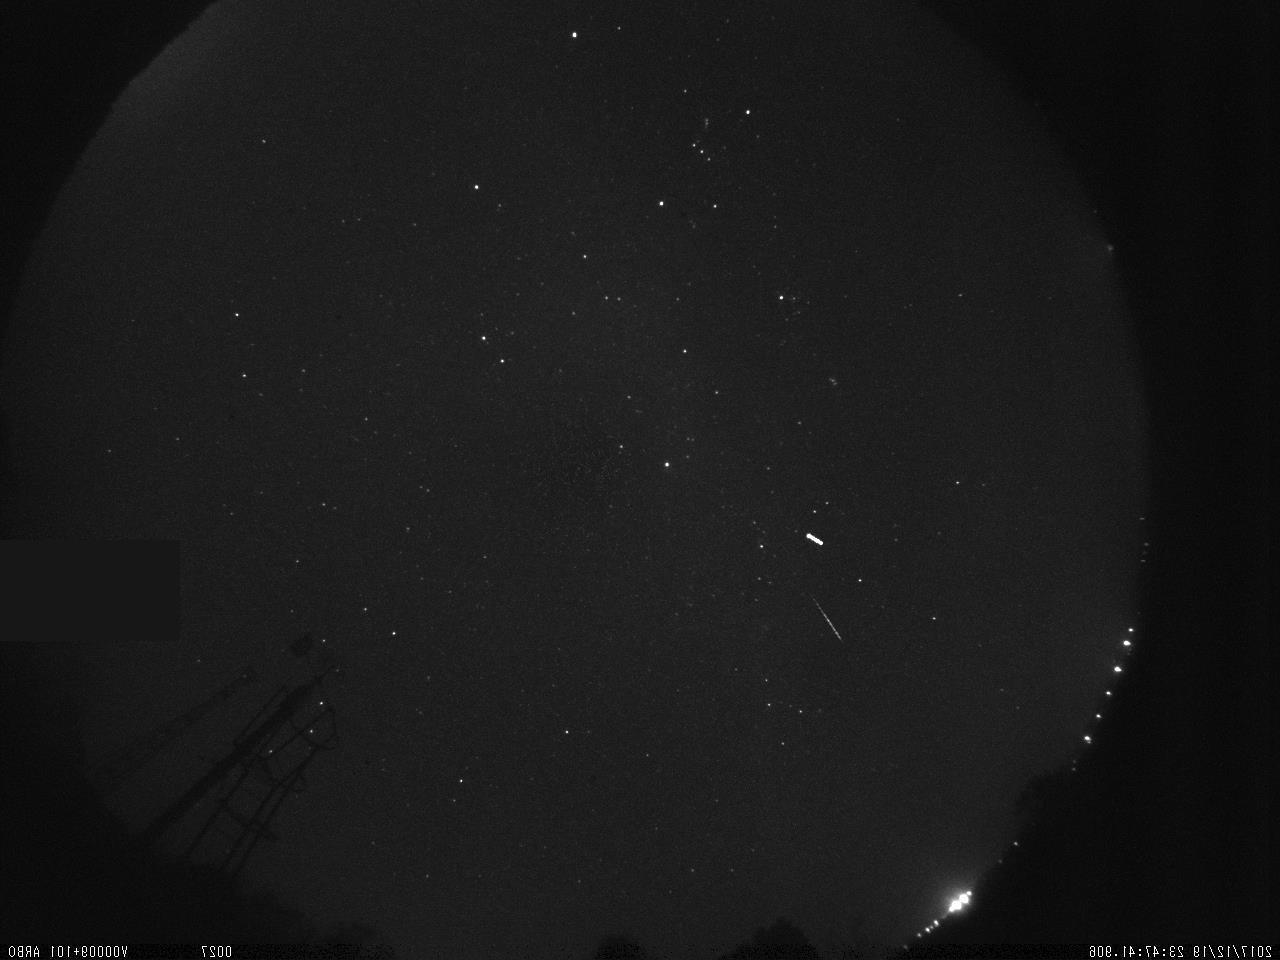meteor: (799, 575, 848, 661)
